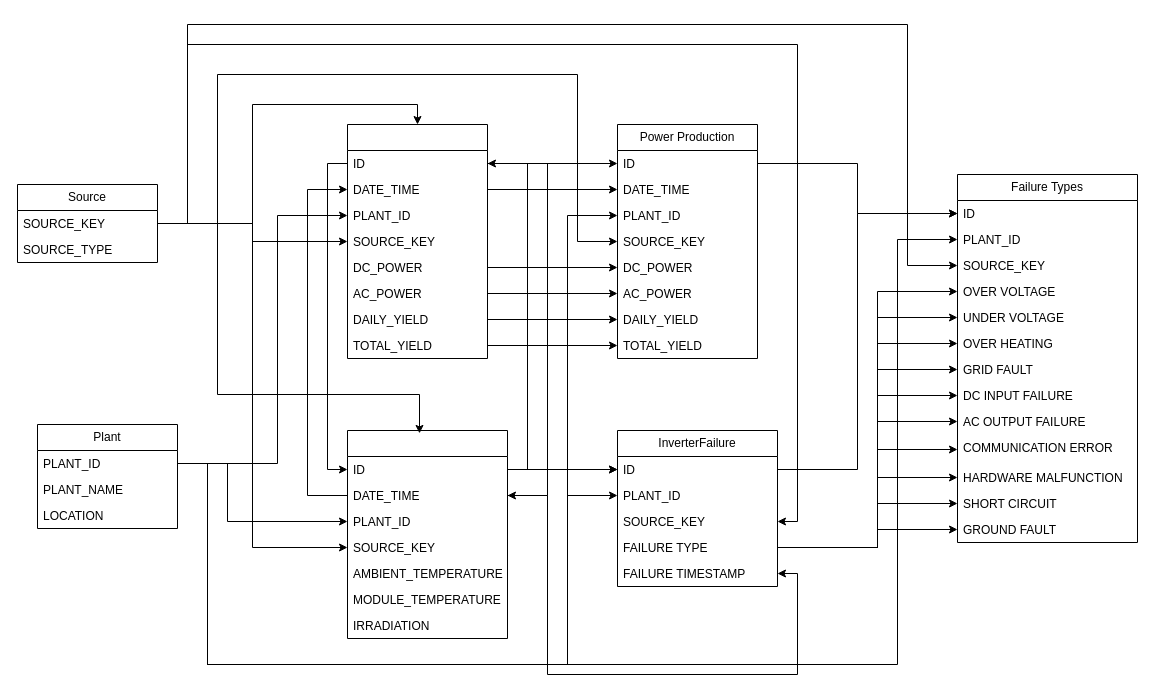
This 1155x700 diagram has some shape labels left out. The box of each missing label's shape, as (x1, y1, x2, y2) in pixels:
PlantData: (346, 124, 488, 358)
WeatherData: (346, 430, 508, 638)
